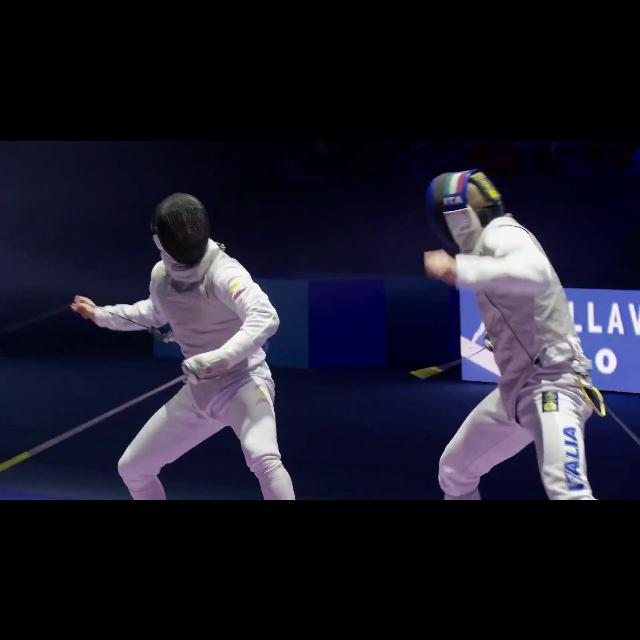blade: (0, 358, 212, 476), (406, 333, 496, 382)
